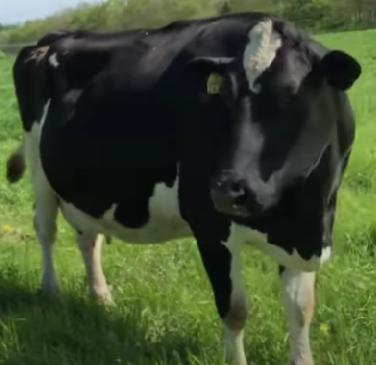cow: (12, 12, 361, 365)
